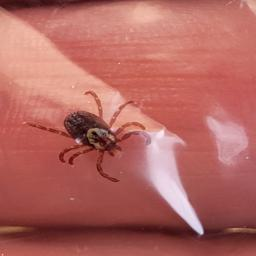Dermacentor variabilis: (24, 91, 153, 181)
